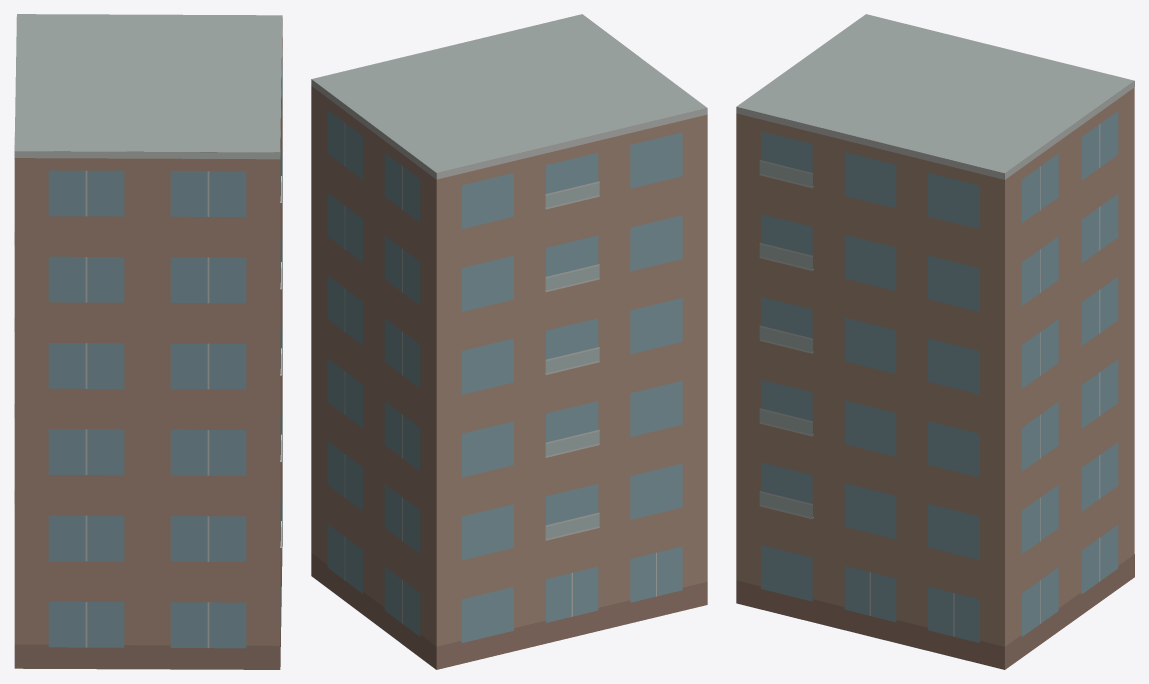
File: survey-upis-32653319.glb
The picture shows the model from 3 angles, left to right: view 1: azimuth 30°, elevation 25°; view 2: azimuth 150°, elevation 25°; view 3: azimuth 270°, elevation 25°; orthographic projection. The views are drawn at different scales.
Parts seen in each view (by area): view 1: survey-upis-32653319.tmp; view 2: survey-upis-32653319.tmp; view 3: survey-upis-32653319.tmp.
Boxes of the visible parts, left/top/right/bottom form: survey-upis-32653319.tmp: left=14, top=14, right=282, bottom=669; survey-upis-32653319.tmp: left=311, top=14, right=707, bottom=669; survey-upis-32653319.tmp: left=736, top=14, right=1134, bottom=669.
Size of the model in its own units: 12.67 by 18.4 by 13.39.
